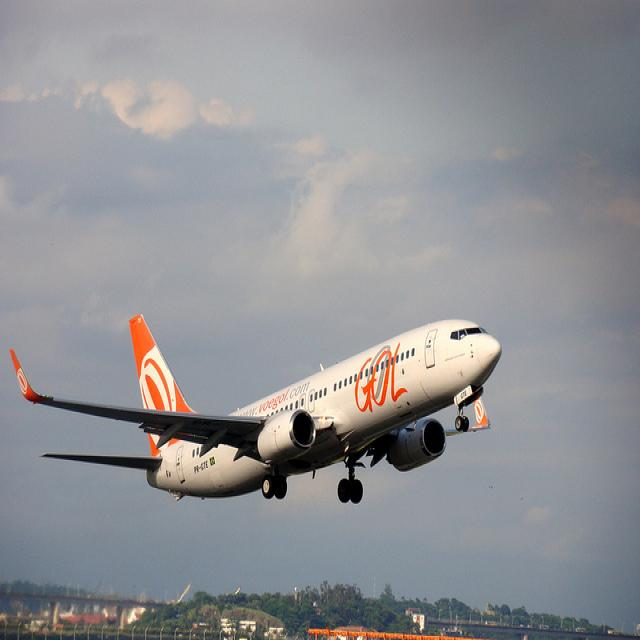airplane: (5, 310, 503, 506)
